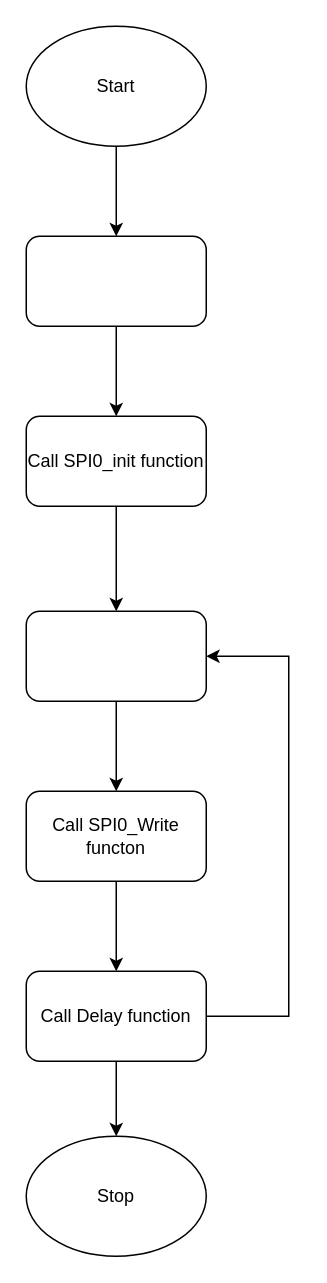
The diagram is 327 pixels wide and 1283 high, and some of its shapes have lost their labels. The shapes that lost their labels are listed below. From the top down, each one's box as (x1, y1, x2, y2) in pixels, then its label:
(25, 235, 206, 326): Declare a variable
(25, 610, 206, 701): Infinite loop
